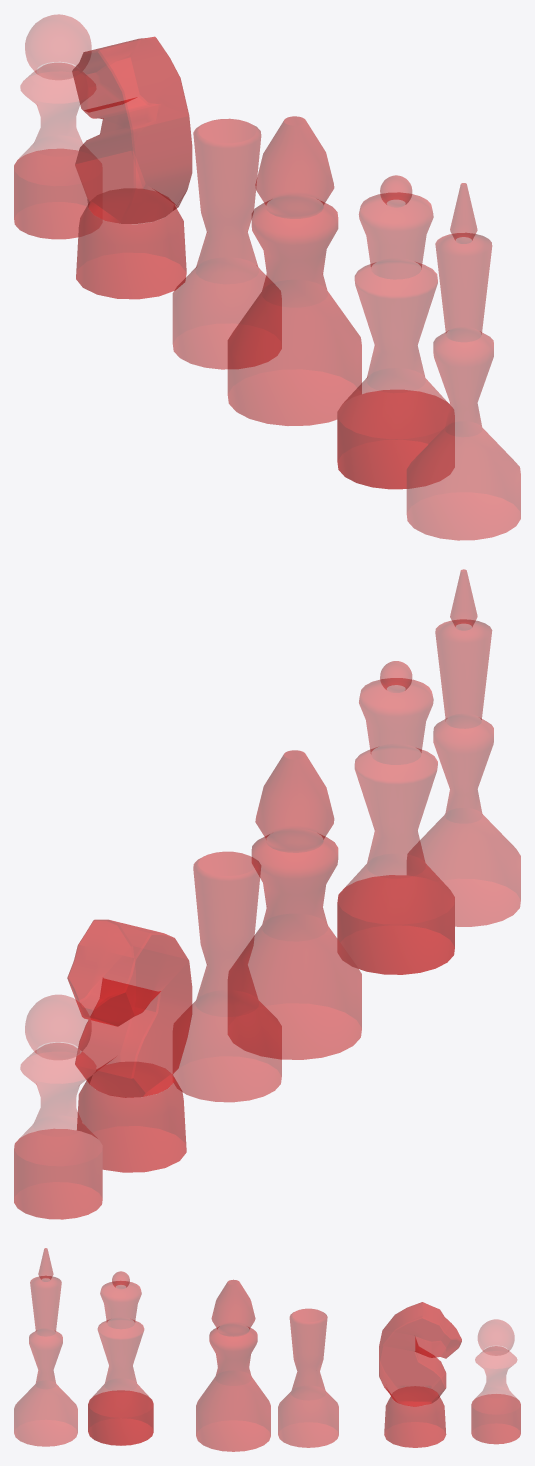
File: Chess_Pieces.fbx
3 renders of one model, top to bottom at view 1: azimuth 30°, elevation 25°; view 2: azimuth 150°, elevation 25°; view 3: azimuth 270°, elevation 25°, orthographic. The views are drawn at different scales.
Visible parts, largest first — view 1: SM_Bishop, SM_Knight3, SM_Queen, SM_King, SM_Rook, SM_Pawn2; view 2: SM_Bishop, SM_Knight3, SM_Queen, SM_King, SM_Rook, SM_Pawn2; view 3: SM_Knight3, SM_Bishop, SM_Queen, SM_King, SM_Rook, SM_Pawn2.
Part boxes in pixels (x1=…): SM_Bishop: x1=227, y1=116, x2=361, y2=425; SM_Knight3: x1=72, y1=36, x2=192, y2=299; SM_Queen: x1=337, y1=175, x2=454, y2=489; SM_King: x1=407, y1=183, x2=520, y2=540; SM_Rook: x1=172, y1=118, x2=281, y2=369; SM_Pawn2: x1=14, y1=14, x2=91, y2=239; SM_Bishop: x1=228, y1=750, x2=361, y2=1059; SM_Knight3: x1=67, y1=919, x2=192, y2=1172; SM_Queen: x1=337, y1=661, x2=454, y2=974; SM_King: x1=407, y1=569, x2=520, y2=926; SM_Rook: x1=173, y1=851, x2=281, y2=1102; SM_Pawn2: x1=14, y1=995, x2=102, y2=1219; SM_Knight3: x1=379, y1=1302, x2=461, y2=1447; SM_Bishop: x1=196, y1=1279, x2=270, y2=1451; SM_Queen: x1=88, y1=1271, x2=153, y2=1445; SM_King: x1=14, y1=1248, x2=77, y2=1446; SM_Rook: x1=278, y1=1308, x2=338, y2=1447; SM_Pawn2: x1=471, y1=1319, x2=520, y2=1444.
Size of the model in its own units: 2 by 5.51 by 13.51.
